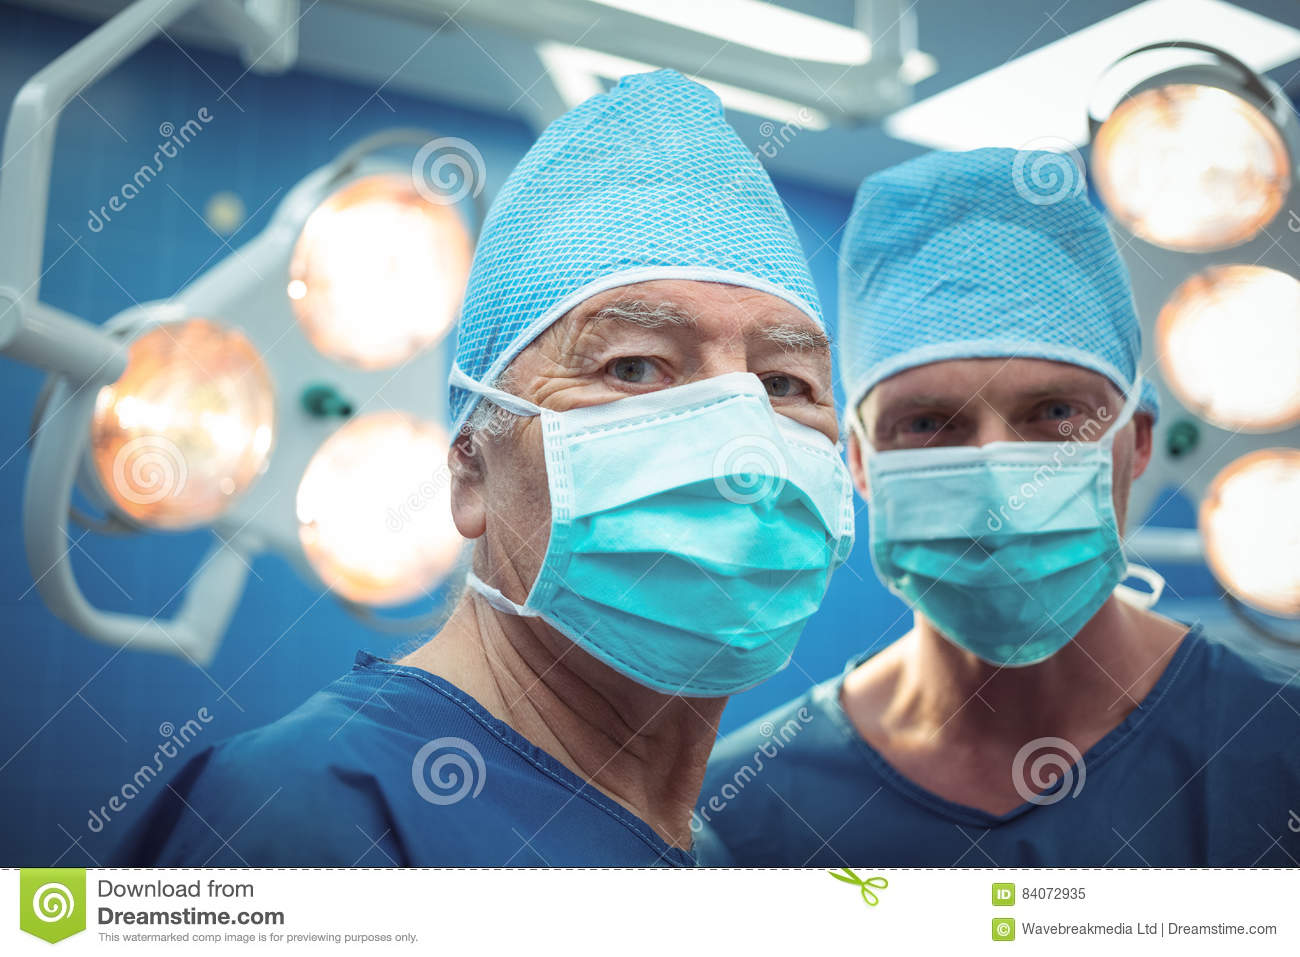mask: (520, 394, 876, 671), (860, 420, 1136, 679)
